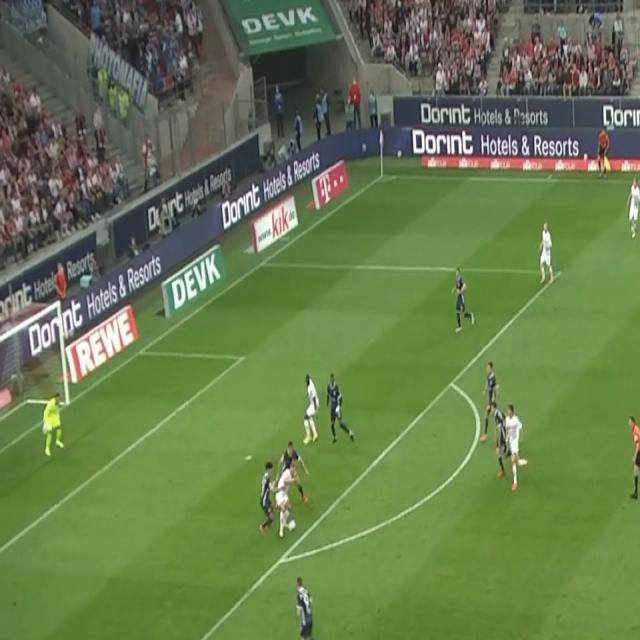ball: (287, 517, 297, 533)
